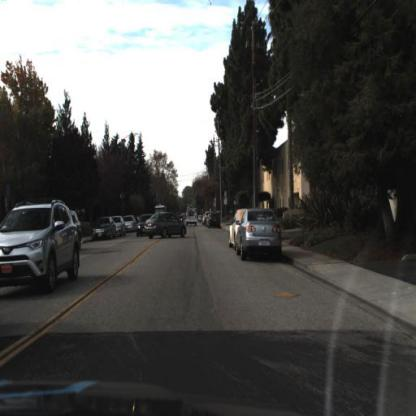car: (0, 200, 80, 288), (236, 209, 283, 258), (139, 210, 188, 247), (145, 212, 187, 240), (87, 213, 117, 244), (91, 216, 115, 240), (182, 204, 202, 230), (133, 214, 149, 240), (124, 212, 138, 235), (205, 210, 221, 230), (116, 211, 126, 240)
truck: (185, 204, 199, 226), (154, 201, 168, 217)
